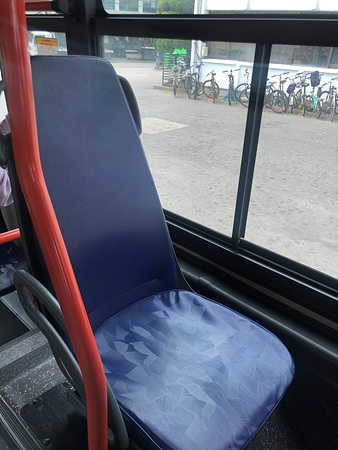seat: (25, 57, 294, 443)
